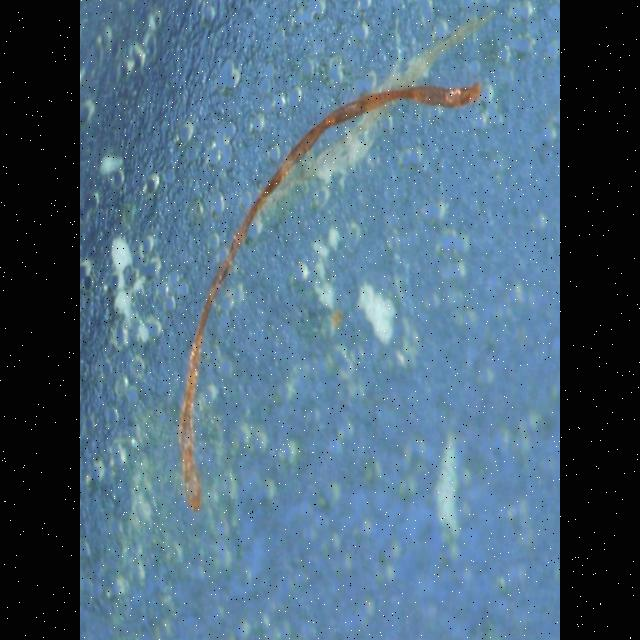Fibre: (175, 68, 485, 530)
